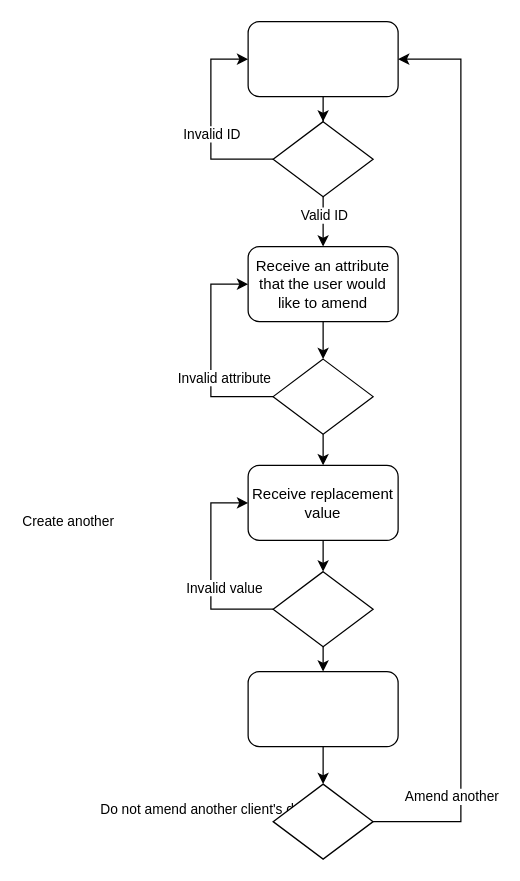
Some shapes in this 520 by 881 pixel diagram are drawn without their labels. The shapes that lost their labels are listed below. From the top down, each one's box as (x1, y1, x2, y2) in pixels, then its label:
(247, 20, 398, 97): Recieve a client ID to amend record values
(247, 670, 398, 747): Change old value for attribute to new value
